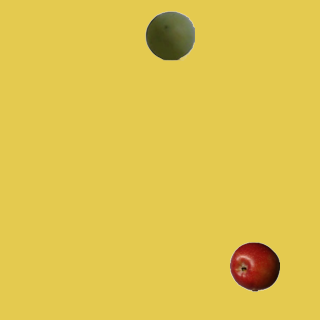Apple Braeburn: (229, 241, 279, 291)
Grape White 4: (144, 10, 194, 60)
